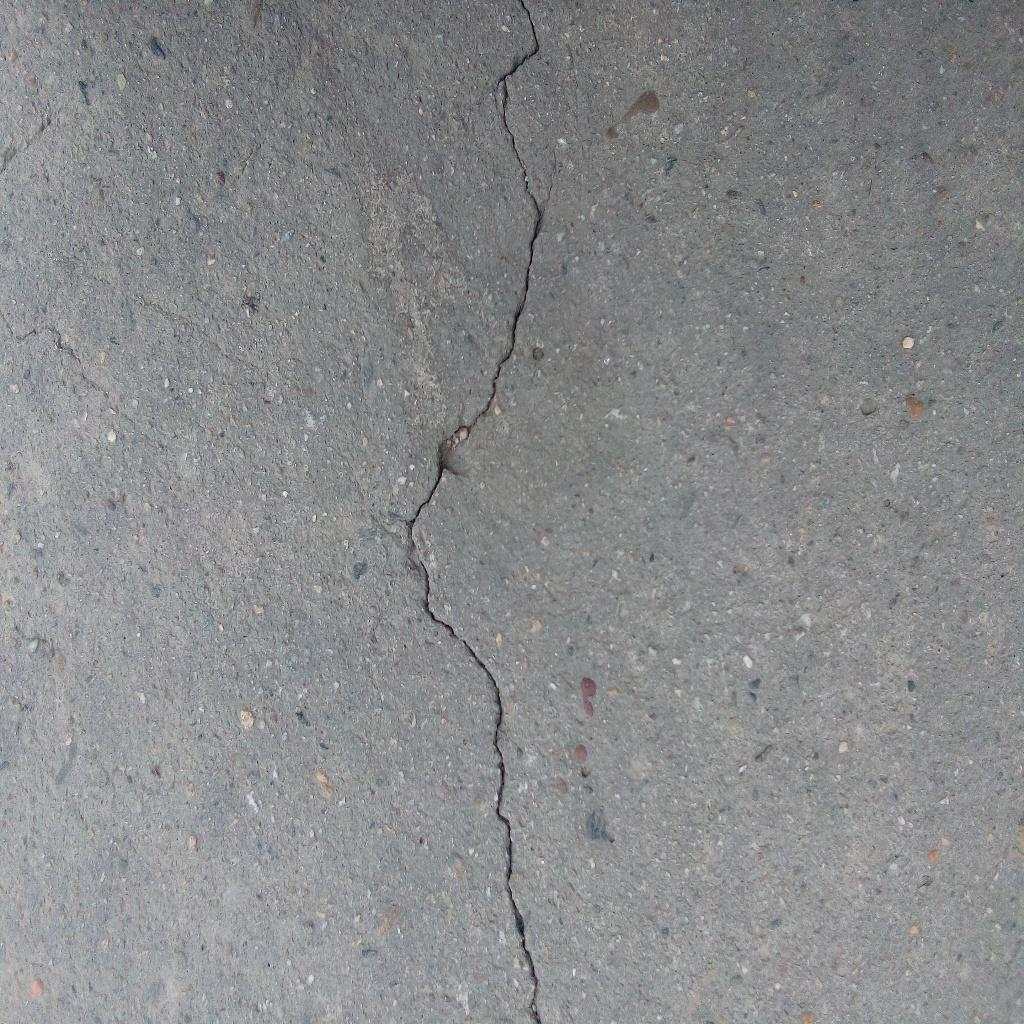Crack: (406, 1, 543, 1024)
